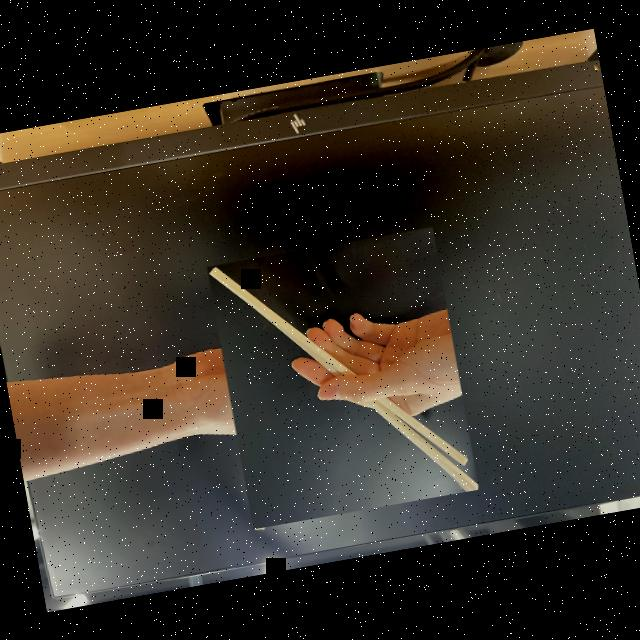stick: (206, 227, 478, 529)
